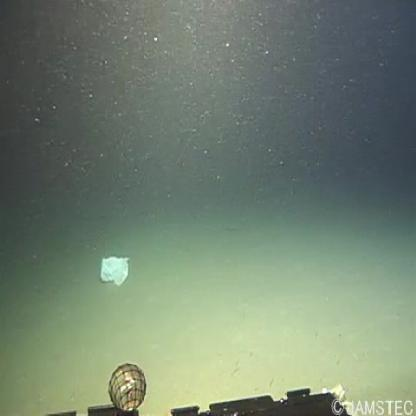Rác: (97, 249, 133, 297)
